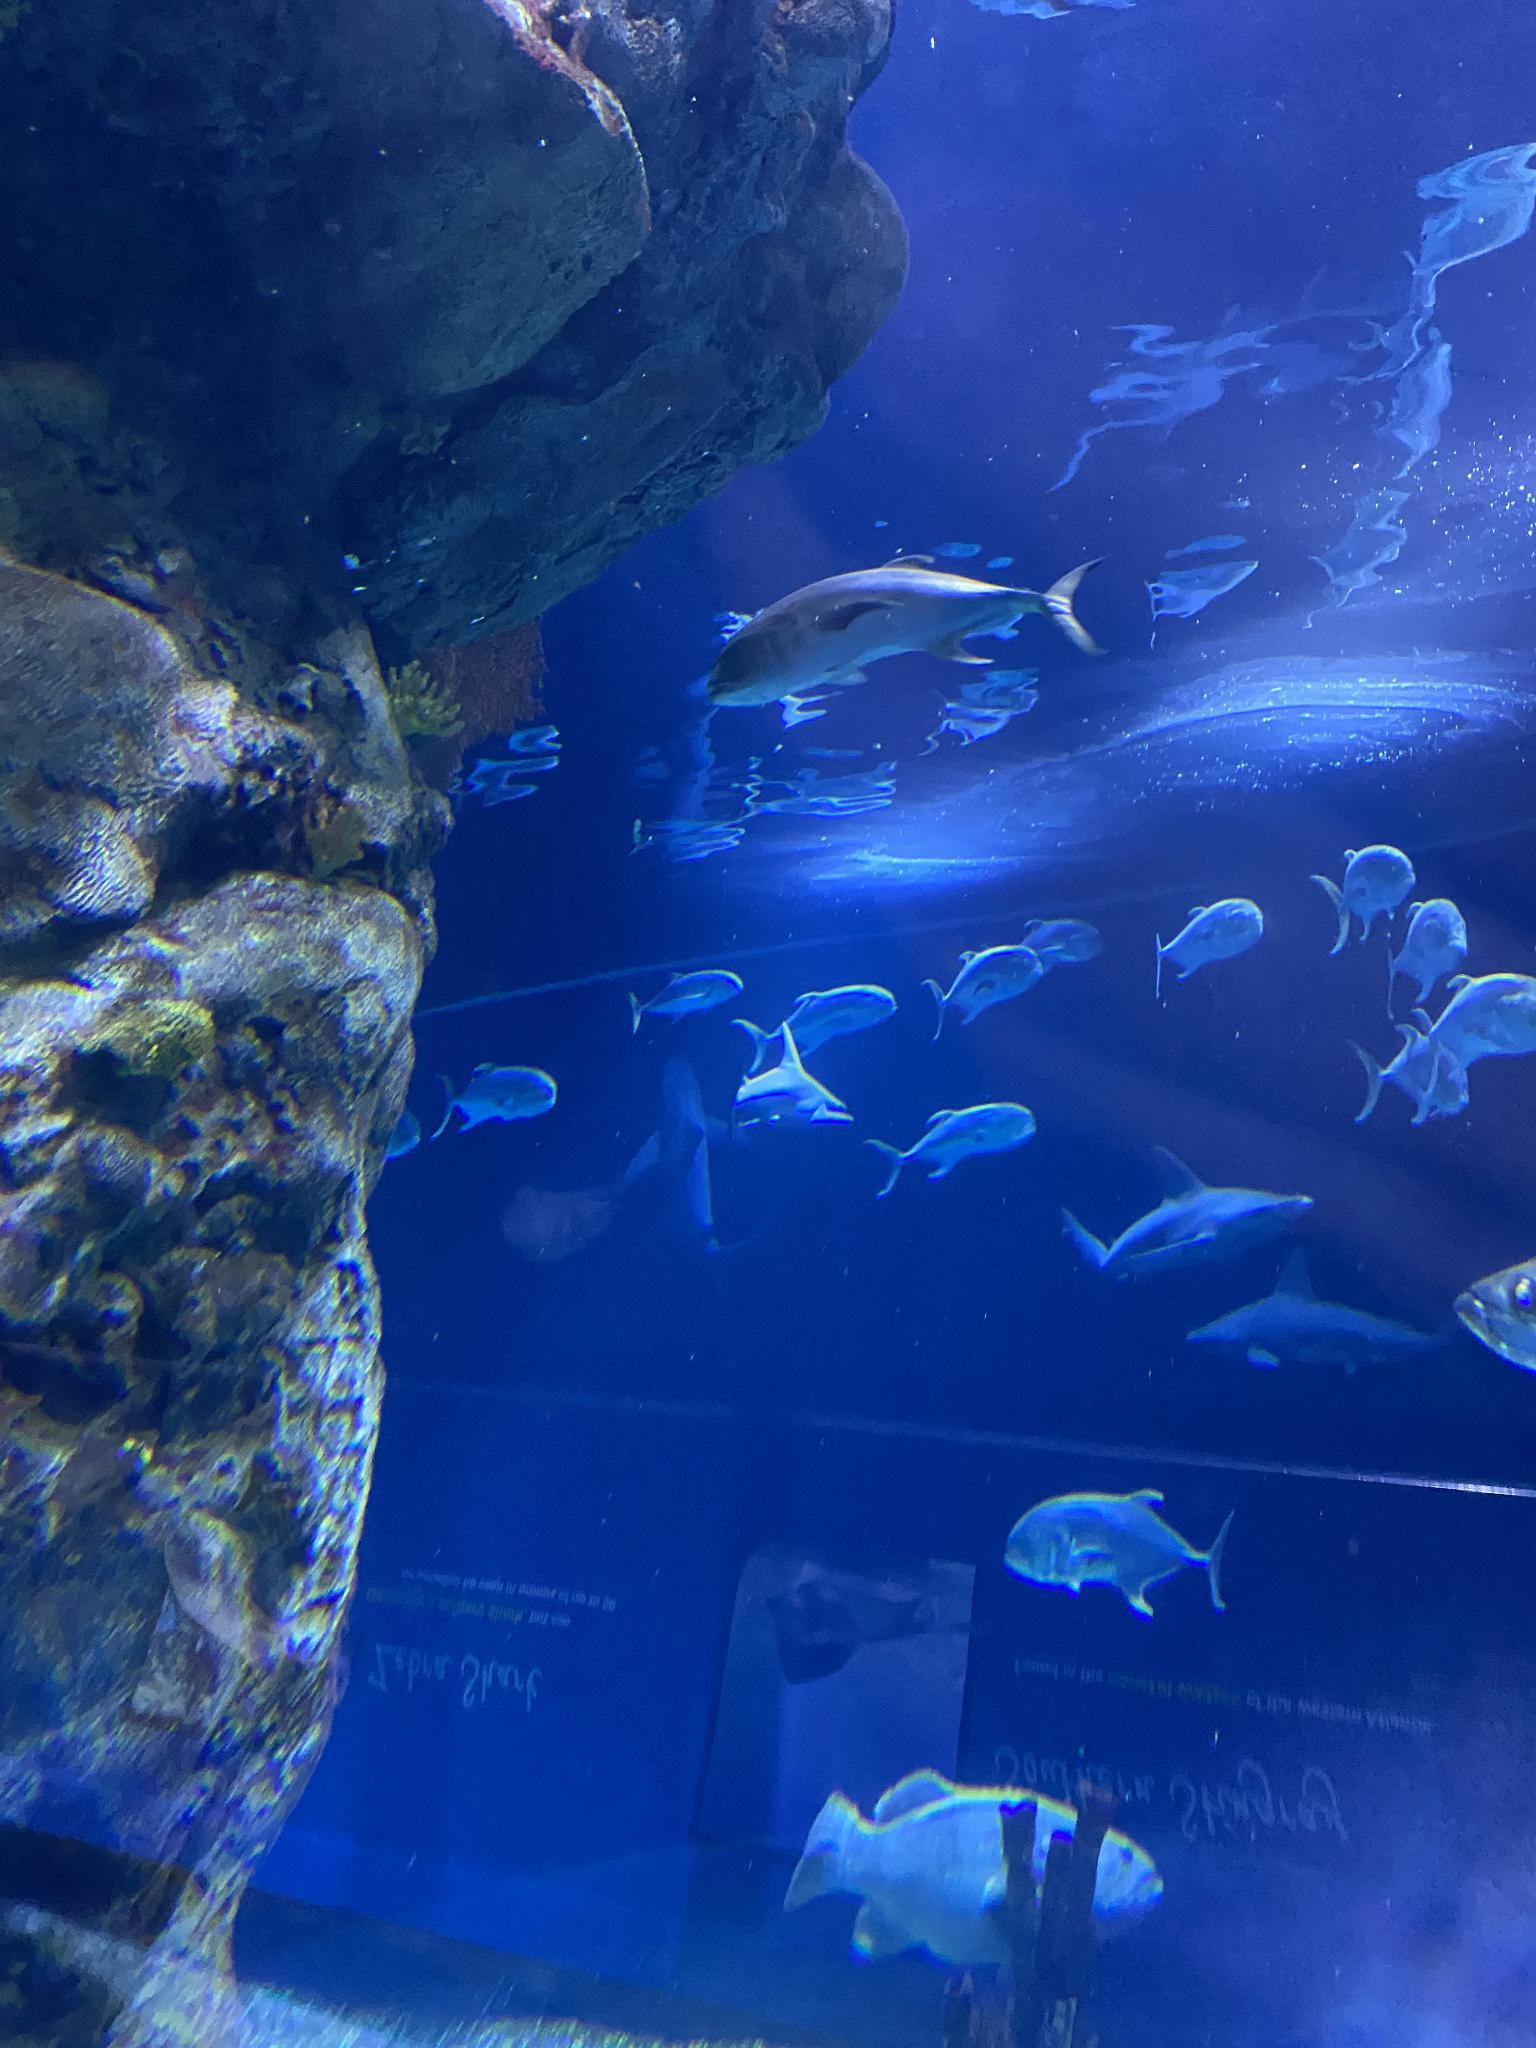fish: (789, 1777, 1160, 1966), (708, 548, 1104, 708), (1007, 1490, 1238, 1613), (866, 1100, 1034, 1201), (736, 985, 895, 1071), (1357, 1021, 1475, 1126), (1418, 974, 1534, 1068), (1154, 897, 1265, 992), (1318, 847, 1417, 950), (437, 1063, 557, 1143), (1462, 1251, 1534, 1382), (928, 950, 1039, 1034), (1386, 900, 1468, 1006), (626, 972, 741, 1030), (1013, 919, 1104, 971)
shark: (1062, 1145, 1312, 1287), (1186, 1247, 1465, 1371), (624, 1051, 770, 1261), (729, 1021, 855, 1132)
